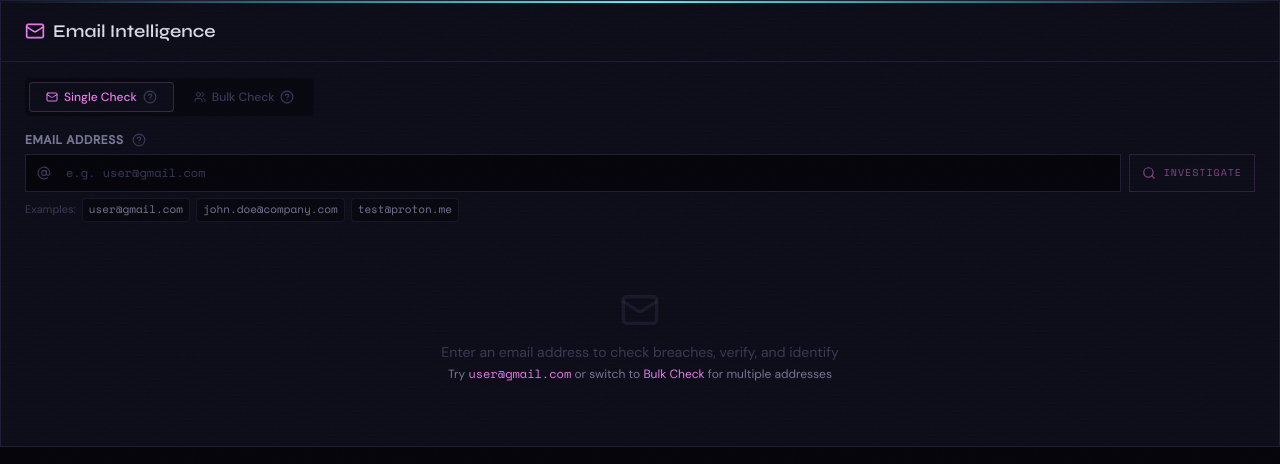
Test: EmailOsintPanel › example chip fills email input
The image size is (1280, 464).
Click the button "user@gmail.com" next to "Examples:": (136, 210) [82,198,190,222]
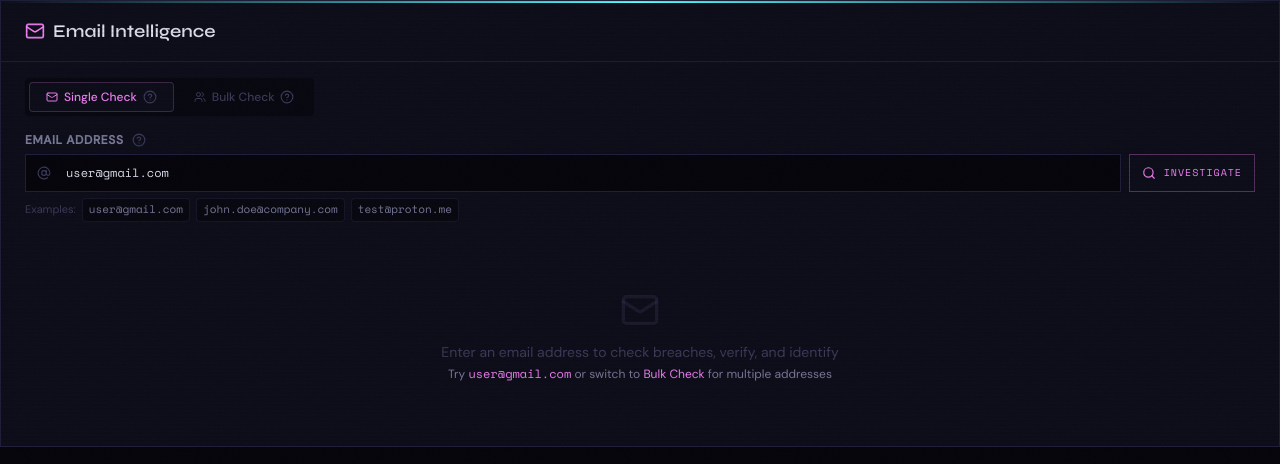
Result: the field with placeholder "e.g. user@gmail.com" is not empty at [25,154,1121,192]
